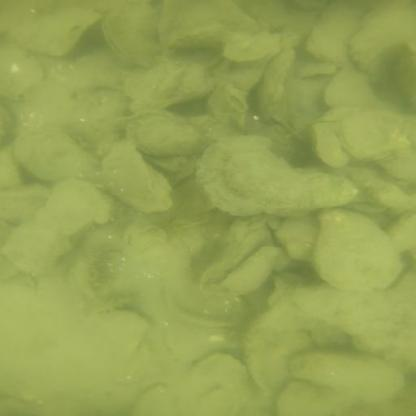3: (229, 86, 247, 110)
Oyster-Closed: (192, 133, 361, 216), (310, 206, 404, 292)
Oyster-Open: (286, 345, 405, 402), (93, 143, 174, 212), (11, 129, 104, 181), (126, 62, 215, 112), (103, 0, 162, 70), (305, 0, 362, 66), (126, 115, 208, 157), (220, 247, 282, 293), (338, 111, 403, 154), (326, 71, 379, 108), (164, 24, 227, 51), (353, 9, 379, 73)
